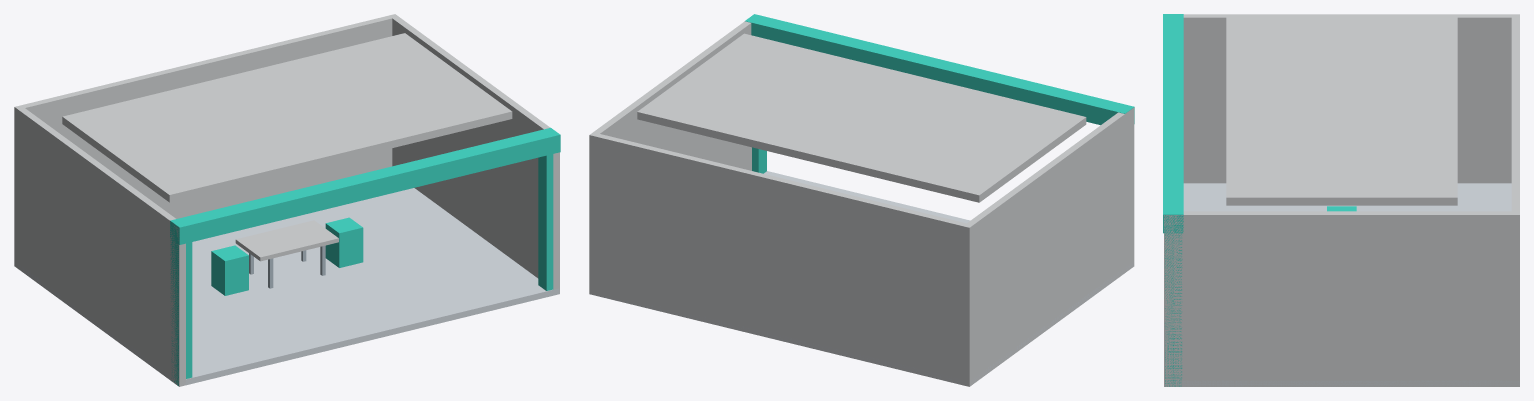
3 renders of one model, left to right at view 1: azimuth 30°, elevation 25°; view 2: azimuth 150°, elevation 25°; view 3: azimuth 270°, elevation 25°, orthographic. The views are drawn at different scales.
Parts seen in each view (by area): view 1: Exhibition Booth Concept; view 2: Exhibition Booth Concept; view 3: Exhibition Booth Concept.
Part boxes in pixels (x1=…): Exhibition Booth Concept: x1=14, y1=14, x2=560, y2=386; Exhibition Booth Concept: x1=589, y1=14, x2=1134, y2=386; Exhibition Booth Concept: x1=1163, y1=14, x2=1519, y2=386.
Bounding box in the file's own units: 8 × 3.34 × 6.02.
